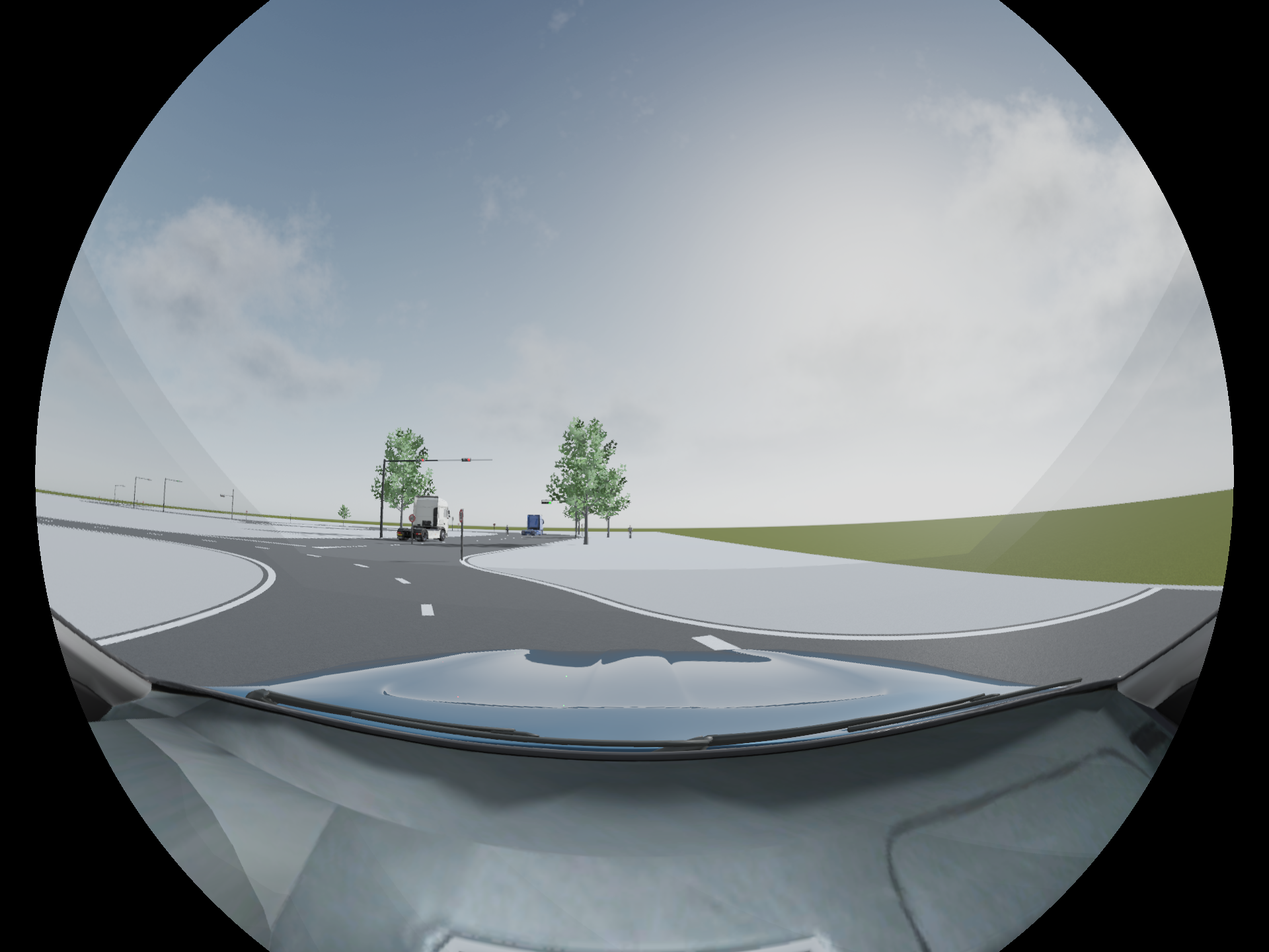Red Light: (414, 456, 427, 463), (460, 458, 473, 463)
